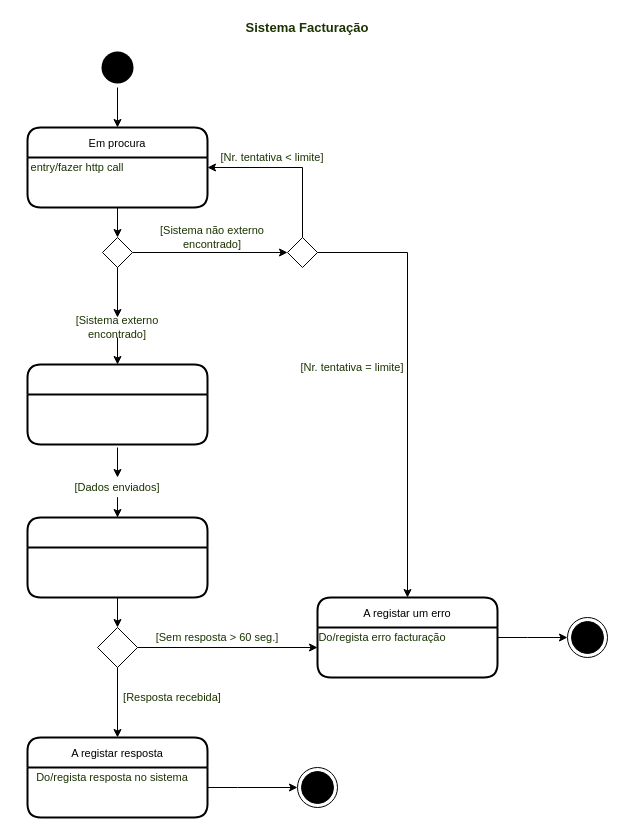
The diagram is 625 pixels wide and 835 high, and some of its shapes have lost their labels. The centre of each missing label's shape, as x and y in pixels:
"A aguardar" belongs at (117,557).
"A enviar dados" belongs at (117,404).
